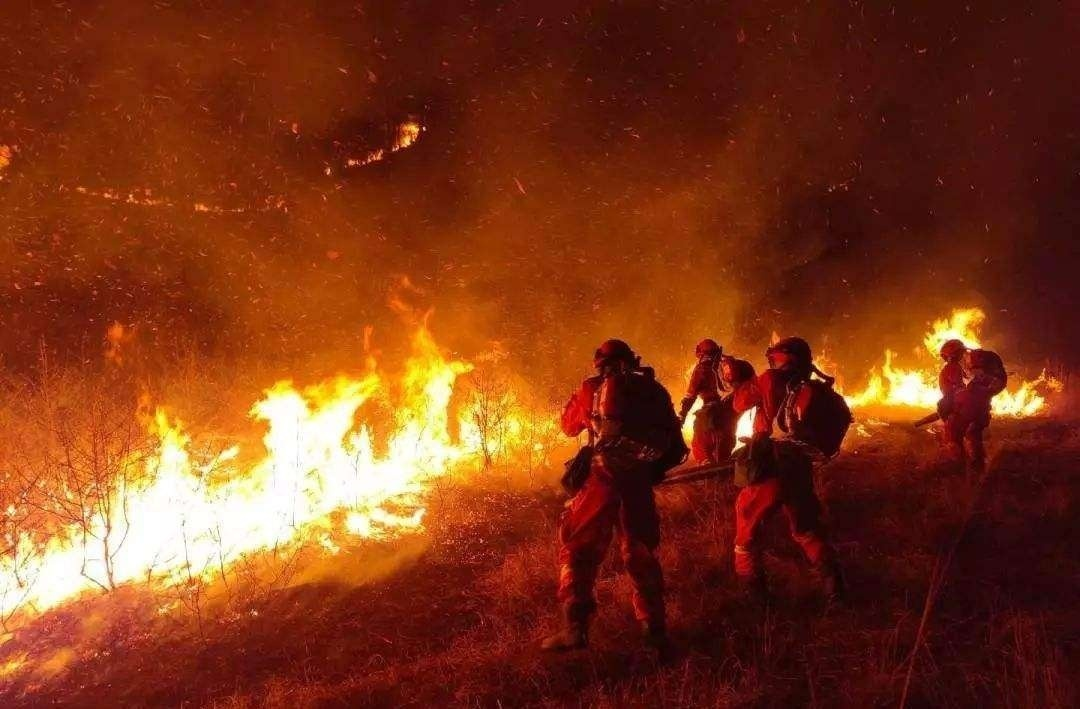fire: (7, 290, 523, 609), (846, 305, 1064, 420)
